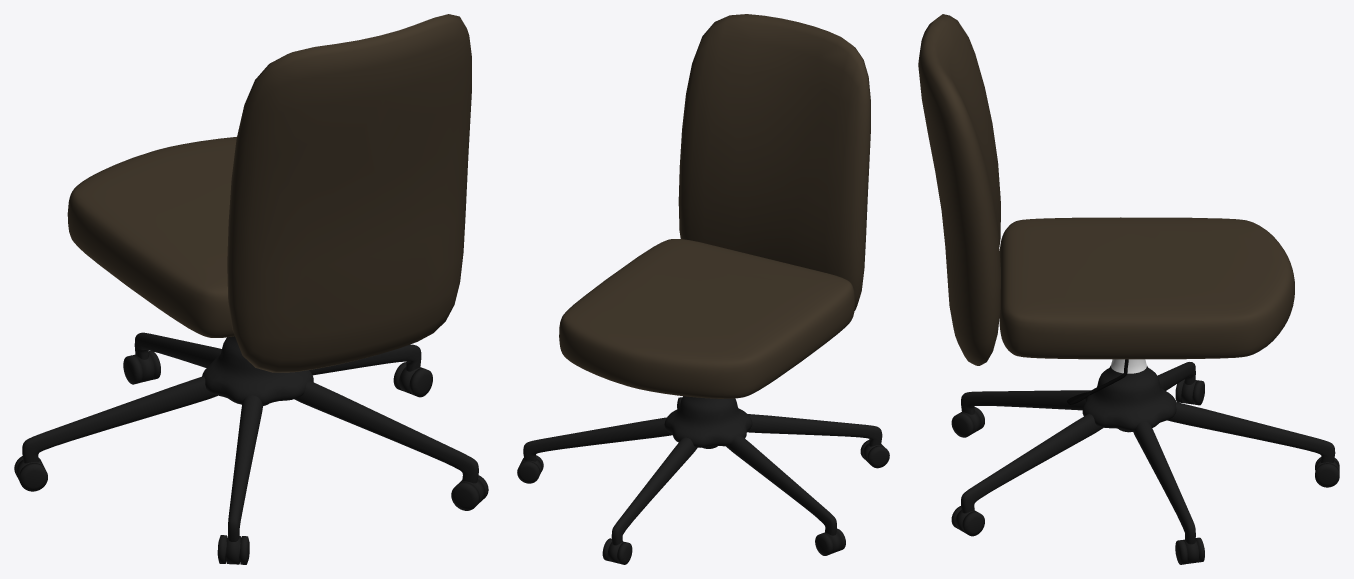
The model's file is a-opt-chair.glb.
3 renders of one model, left to right at view 1: azimuth 30°, elevation 25°; view 2: azimuth 150°, elevation 25°; view 3: azimuth 270°, elevation 25°, orthographic. The views are drawn at different scales.
Parts seen in each view (by area): view 1: Chair; view 2: Chair; view 3: Chair.
Boxes of the visible parts, x1,y1,x2,y2 form: Chair: [14, 14, 488, 564]; Chair: [517, 14, 889, 564]; Chair: [918, 14, 1339, 564].
Size of the model in its own units: 0.8073 by 0.9622 by 0.8337.
